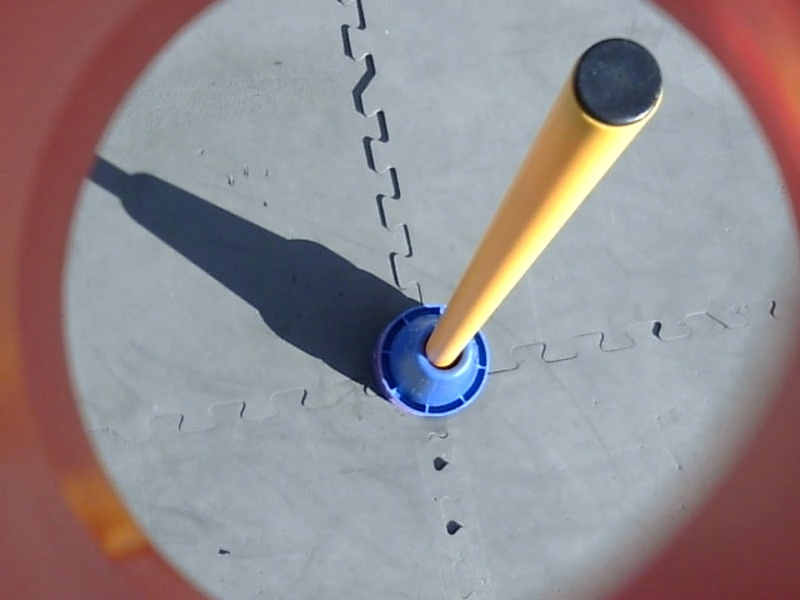tip: (563, 32, 671, 133)
